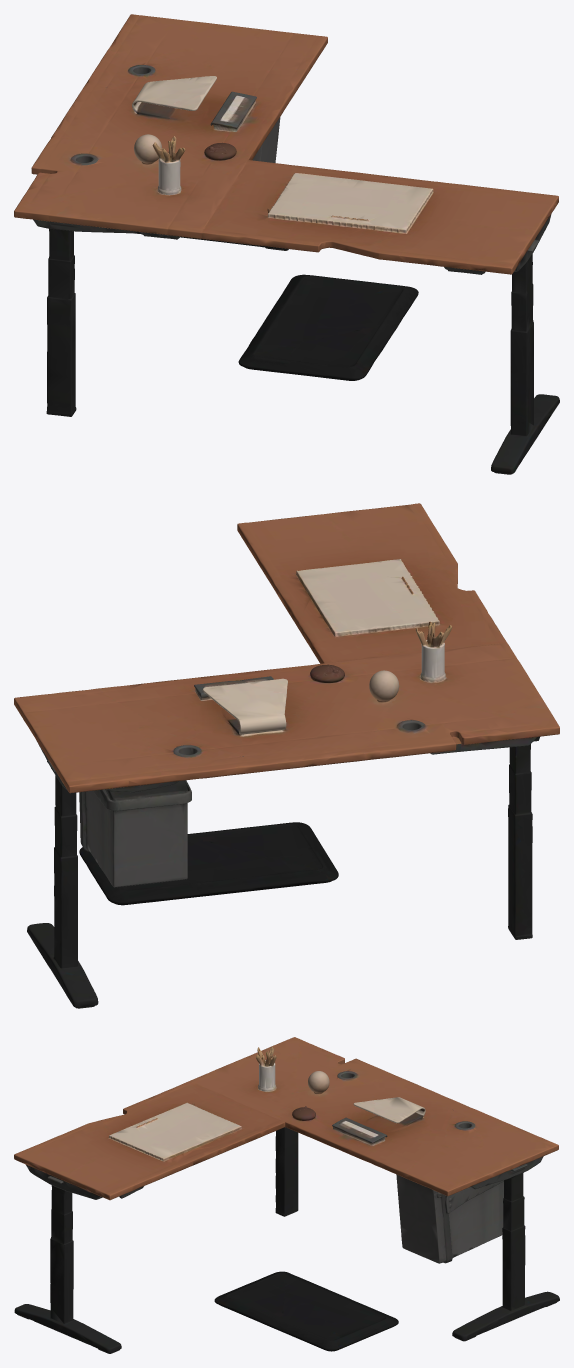
The model's file is upliftdesk-com-uplift-v2-l-shaped-standing-desk-0e2fea.glb.
The picture shows the model from 3 angles, top to bottom: view 1: azimuth 30°, elevation 25°; view 2: azimuth 150°, elevation 25°; view 3: azimuth 270°, elevation 25°; orthographic projection. The views are drawn at different scales.
Visible parts, largest first — view 1: tripo_node_ebf77078-7d98-47d0-9b5e-e9b491c896d3; view 2: tripo_node_ebf77078-7d98-47d0-9b5e-e9b491c896d3; view 3: tripo_node_ebf77078-7d98-47d0-9b5e-e9b491c896d3.
Part boxes in pixels (x1,y1,x2,y2): tripo_node_ebf77078-7d98-47d0-9b5e-e9b491c896d3: [14, 14, 559, 474]; tripo_node_ebf77078-7d98-47d0-9b5e-e9b491c896d3: [14, 503, 559, 1008]; tripo_node_ebf77078-7d98-47d0-9b5e-e9b491c896d3: [14, 1037, 559, 1353].
Size of the model in its own units: 0.9172 by 0.5299 by 1.33.
1 material, 1 textured.
